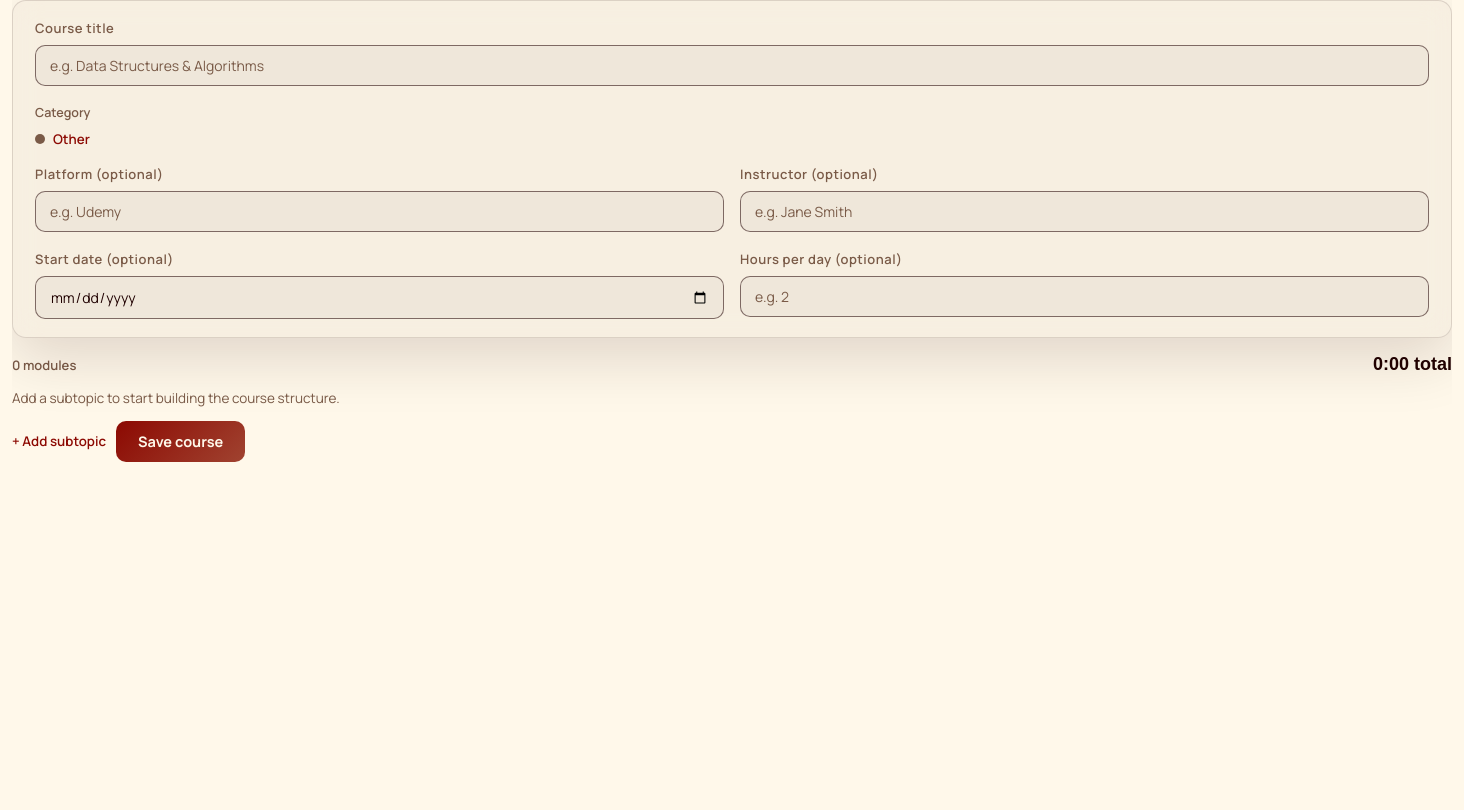
Scenario: CourseForm (direct-entry course builder) › saves successfully once the course is complete
This screenshot has width=1464, height=810.
Step 1. Type "Web Dev" into the field with placeholder "e.g. Data Structures & Algorithms" → [732, 66], box x1=35 y1=45 x2=1429 y2=86
Step 2. Click the button "+ Add subtopic" → [59, 441], box x1=12 y1=432 x2=106 y2=450
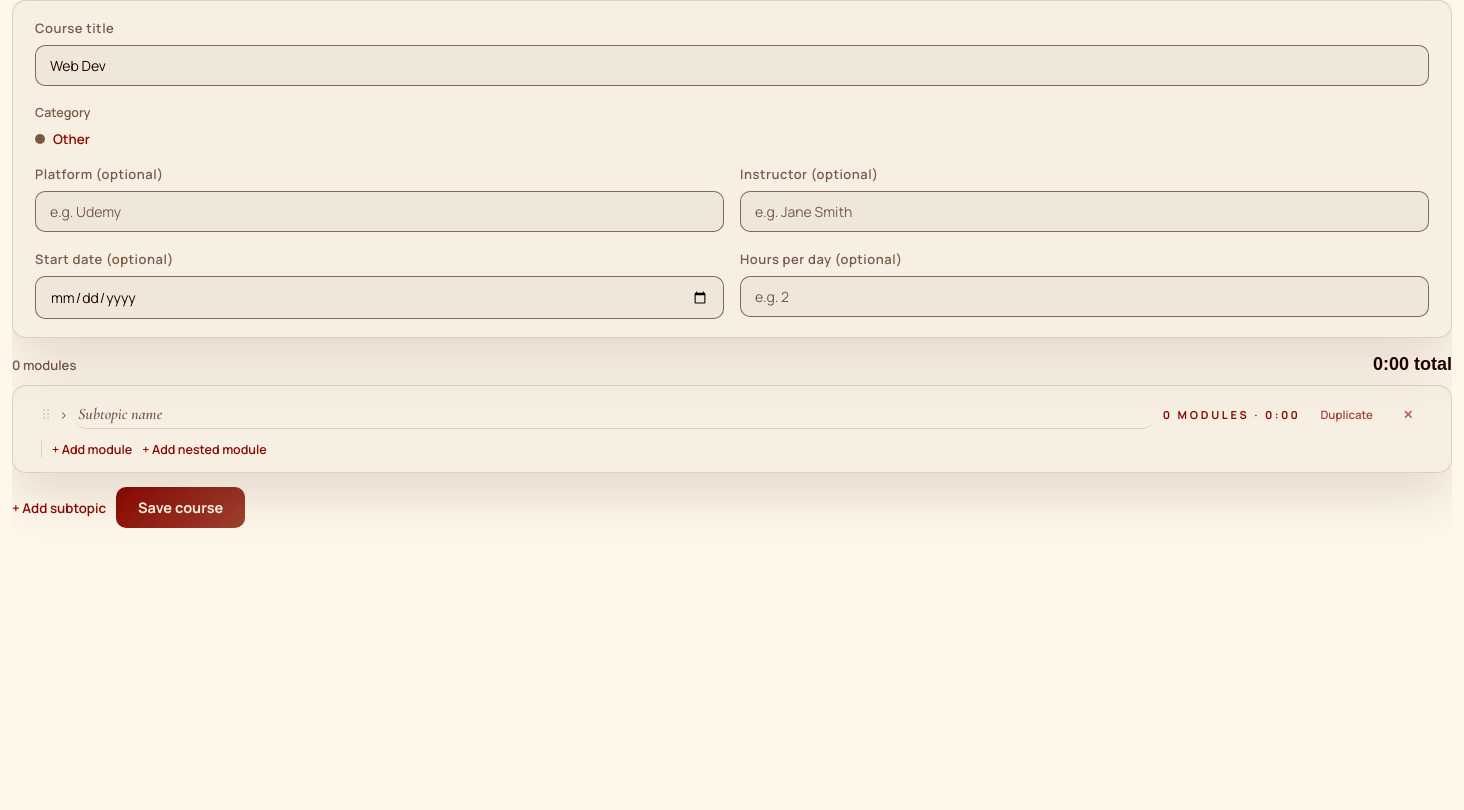
Step 3. Type "Basics" into the field with placeholder "Subtopic name" → [614, 414], box x1=76 y1=400 x2=1153 y2=429
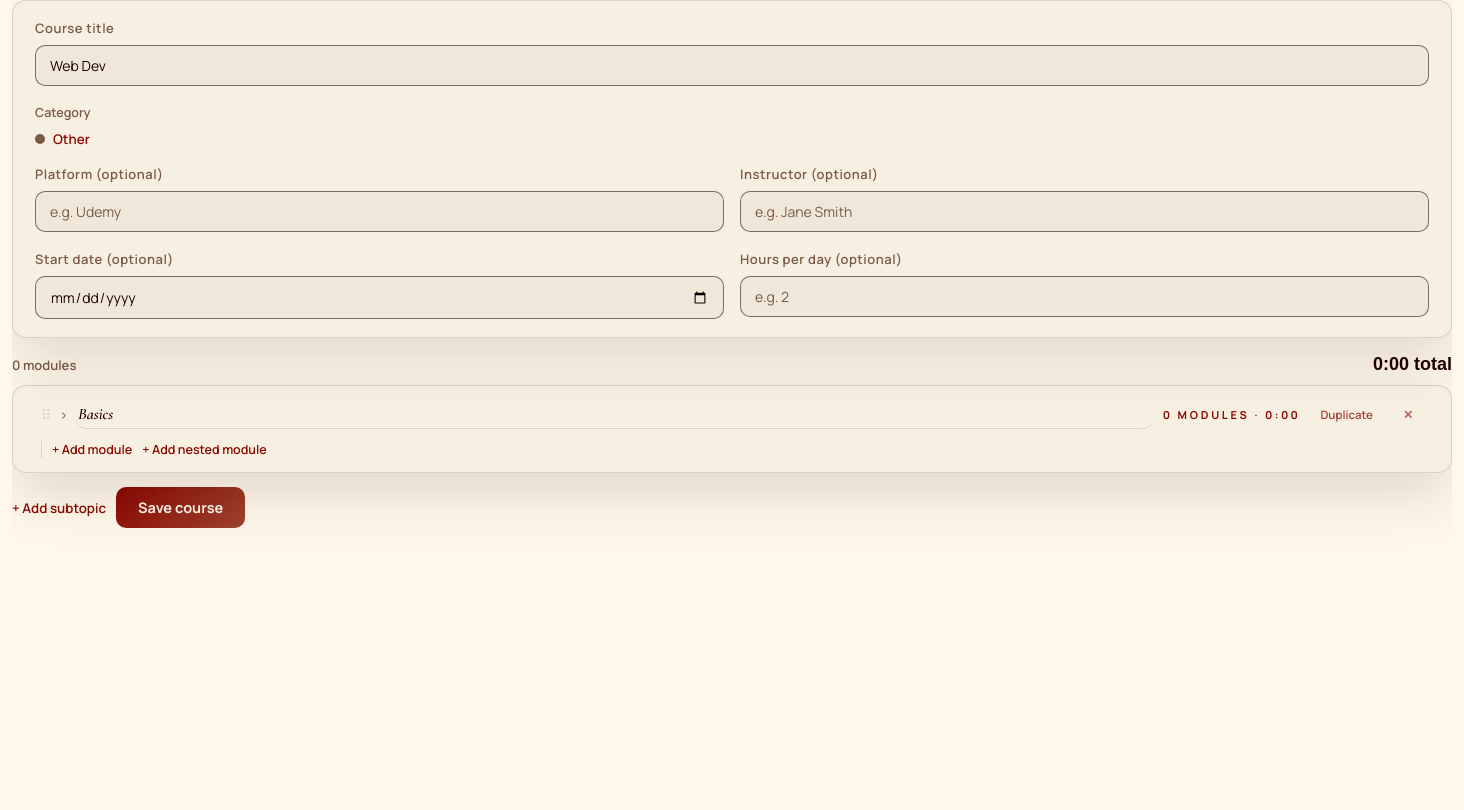
Step 4. Click the button "+ Add module" → [92, 450], box x1=52 y1=441 x2=132 y2=458
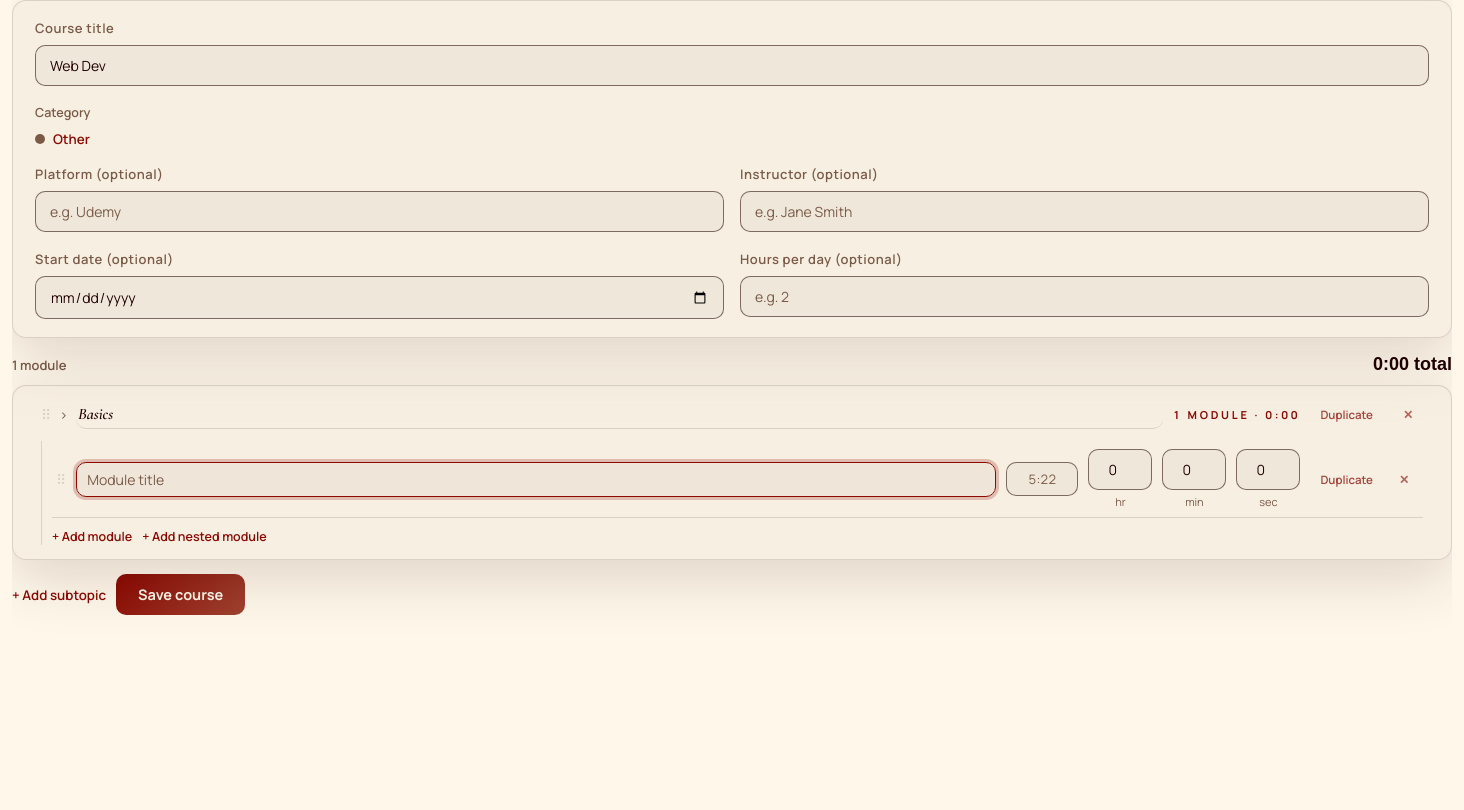
Step 5. Type "HTML" into the field with placeholder "Module title" → [536, 479], box x1=76 y1=462 x2=996 y2=496
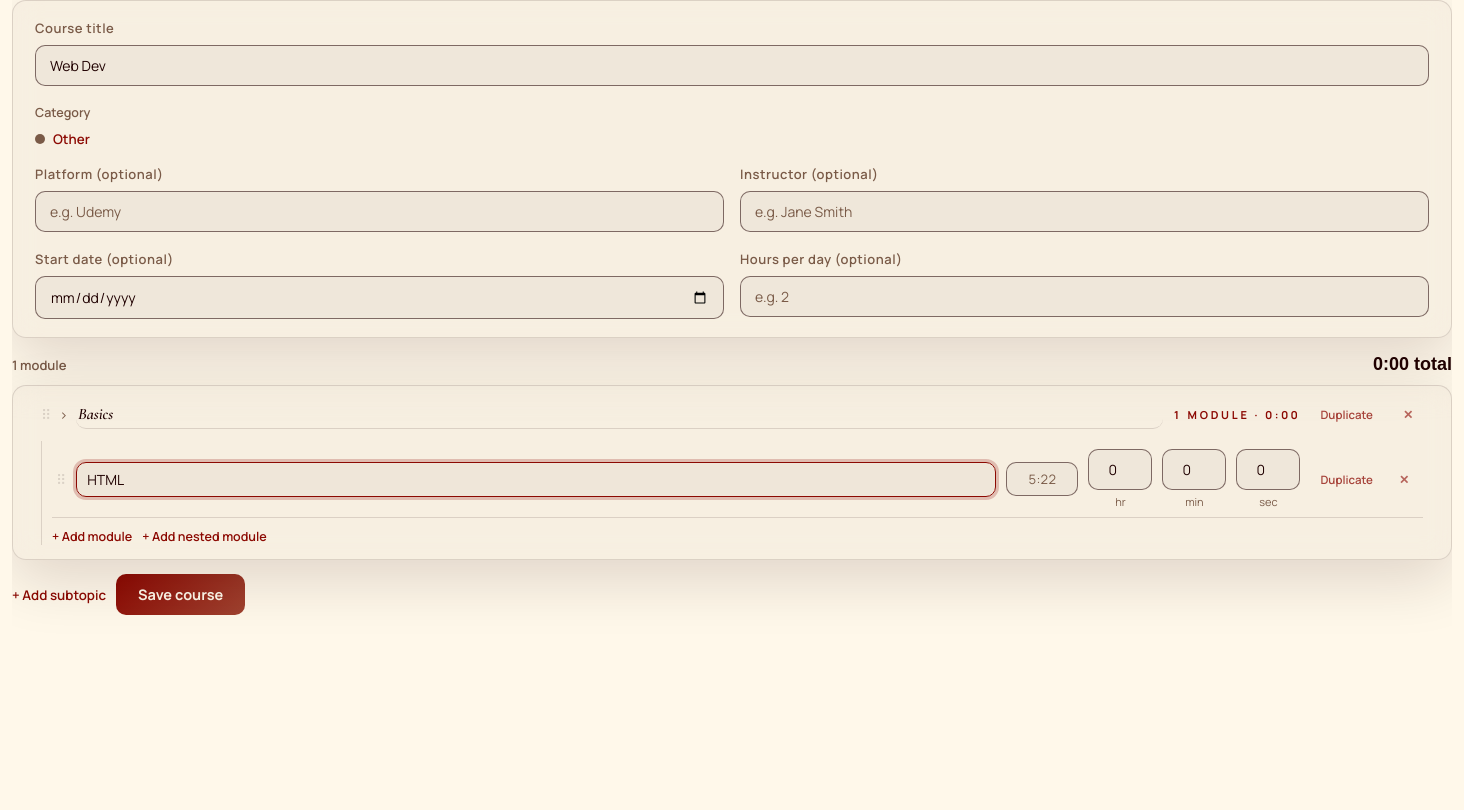
Step 6. Type "10:00" into the field with placeholder "5:22" → [1042, 479], box x1=1006 y1=462 x2=1078 y2=496
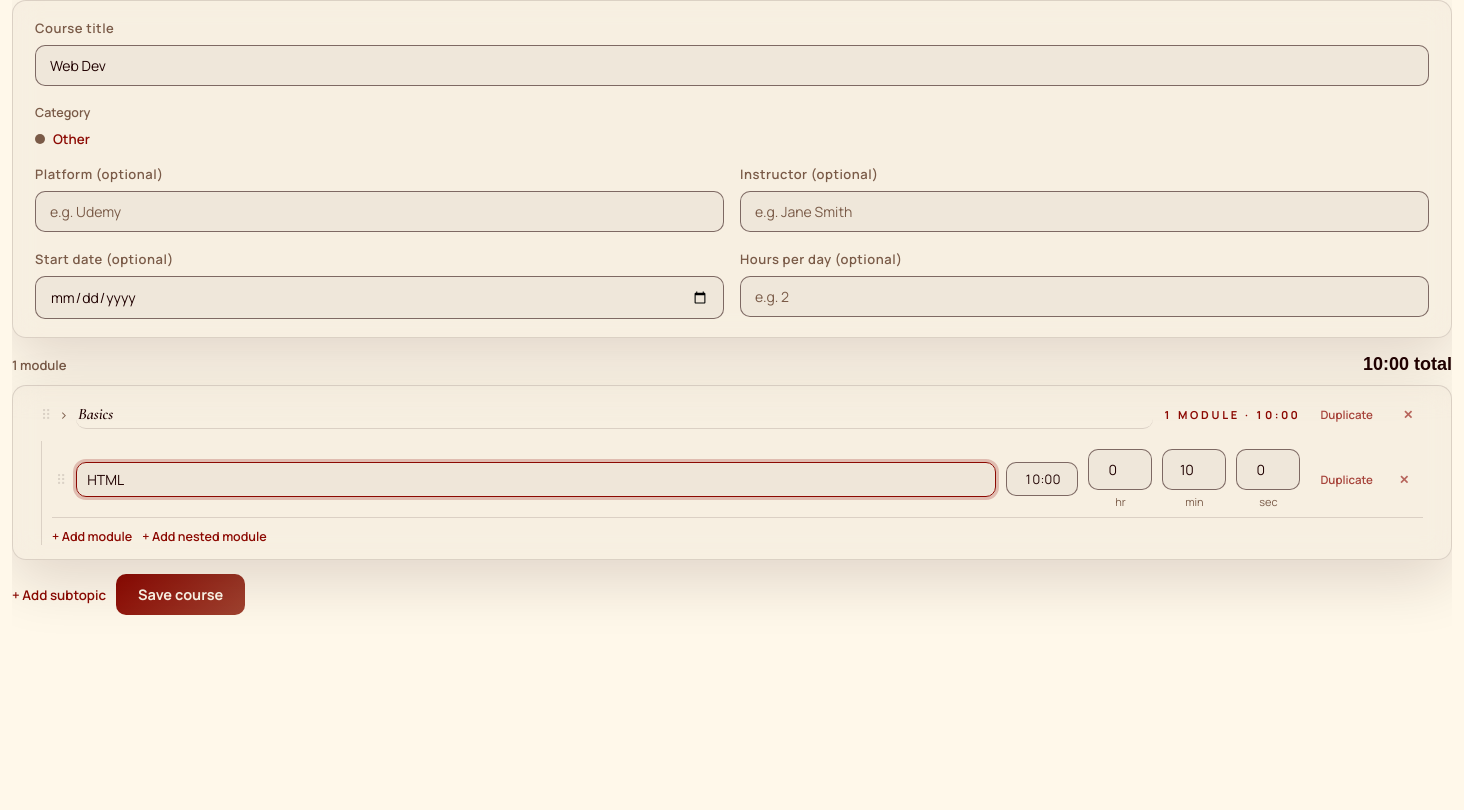
Step 7. Click the button "Save course" → [181, 594], box x1=116 y1=574 x2=245 y2=615
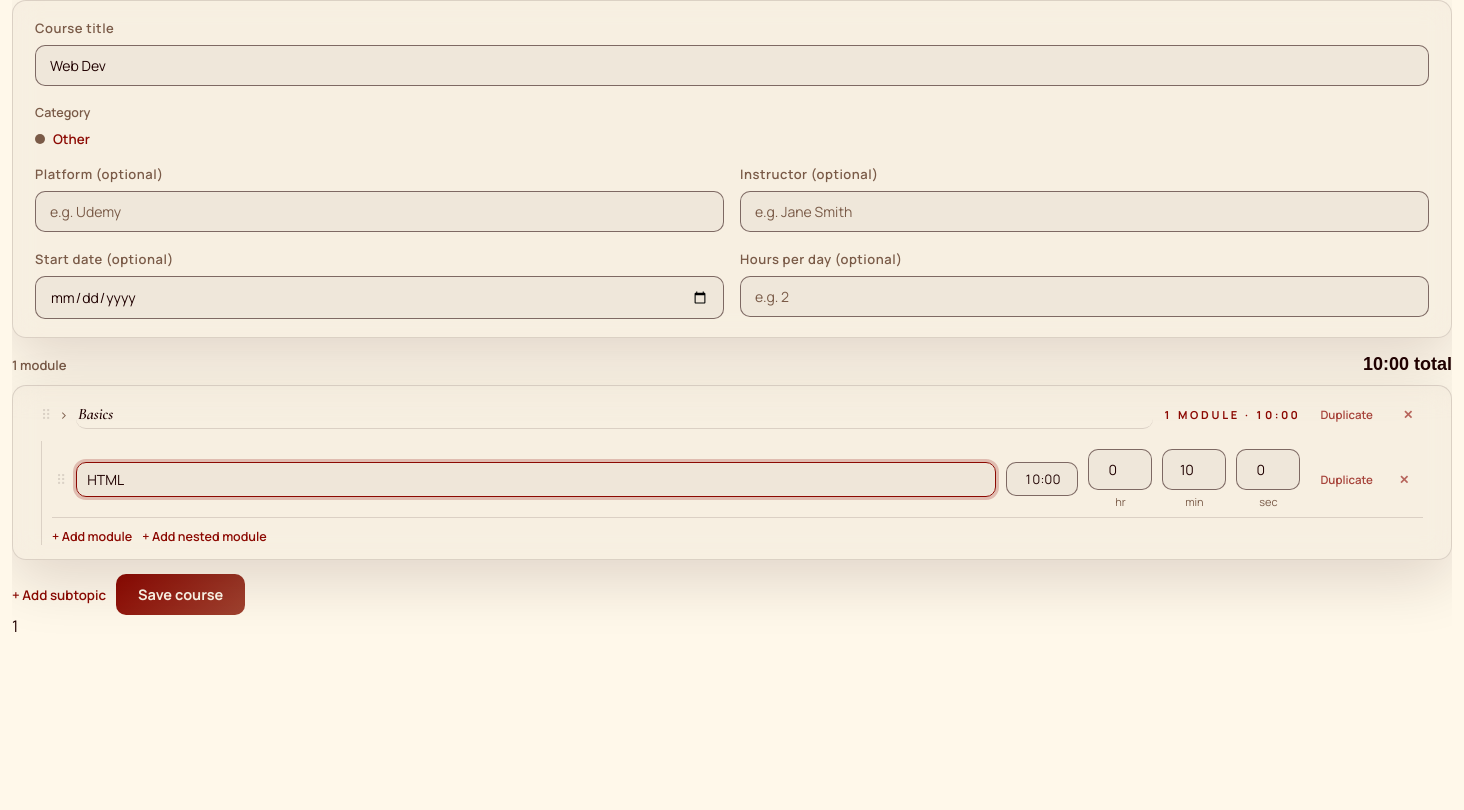
Result: the text with test id "saved-total" reads "1" at x1=12 y1=615 x2=18 y2=637
